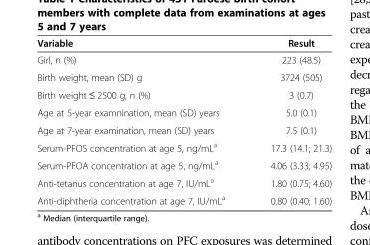table: (36, 36, 331, 206)
table column: (36, 36, 247, 206), (247, 36, 331, 206)
table column header: (36, 36, 331, 51)
table row: (36, 85, 331, 103), (36, 103, 331, 121), (36, 137, 331, 155), (36, 155, 331, 173), (36, 51, 331, 68), (36, 68, 331, 85), (36, 173, 331, 190), (36, 121, 331, 137), (36, 190, 331, 206), (36, 36, 331, 51)
